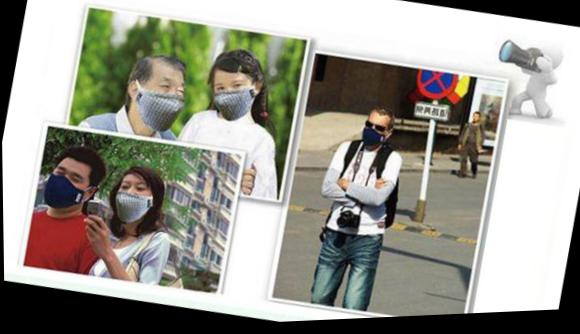NONE: (472, 118, 480, 129)
OK: (135, 71, 189, 136), (206, 70, 259, 123), (41, 162, 89, 216), (360, 120, 392, 154)
WRONG: (111, 176, 155, 228)
